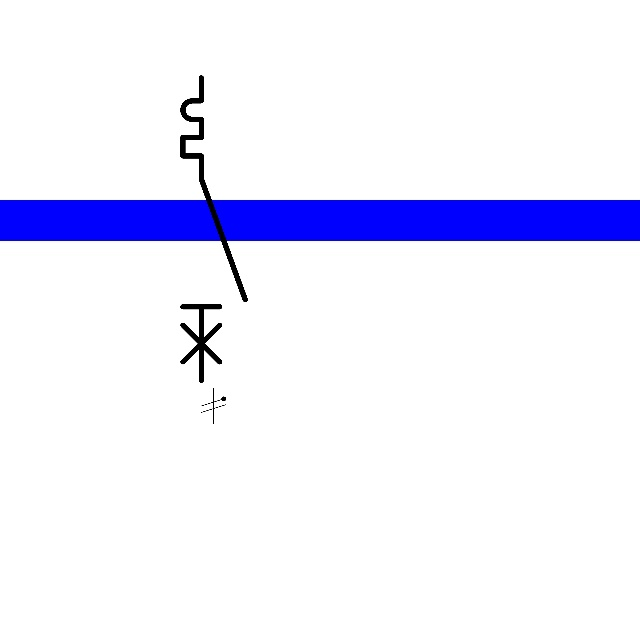interruptor_termomagnetico: (175, 70, 253, 388)
